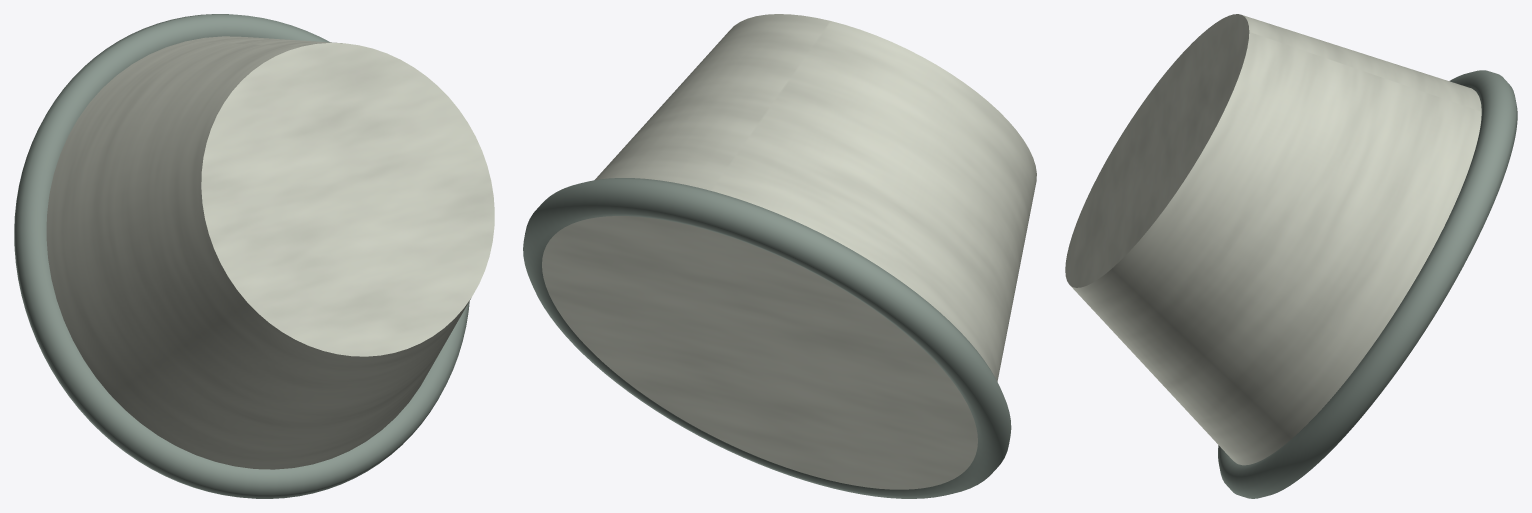
Rendered from Center_Instrument.glb.
The picture shows the model from 3 angles, left to right: view 1: azimuth 30°, elevation 25°; view 2: azimuth 150°, elevation 25°; view 3: azimuth 270°, elevation 25°; orthographic projection. The views are drawn at different scales.
Visible parts, largest first — view 1: Center_Instrument; view 2: Center_Instrument; view 3: Center_Instrument.
Part boxes in pixels (x1=…): Center_Instrument: x1=14, y1=14, x2=494, y2=498; Center_Instrument: x1=523, y1=14, x2=1036, y2=498; Center_Instrument: x1=1065, y1=14, x2=1517, y2=498.
Bounding box in the file's own units: 1.36 × 1.33 × 1.24.
Materials: 2 (2 with a texture image).
